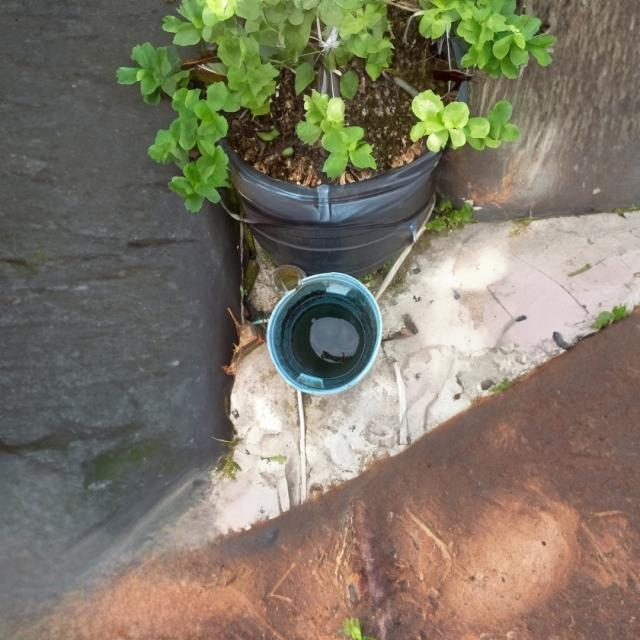Breeding Place: (139, 0, 462, 311), (257, 261, 397, 417)
